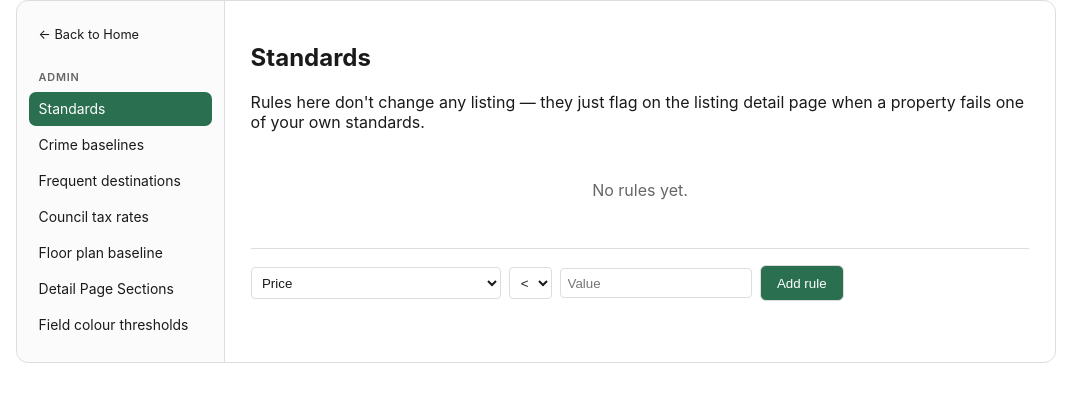
Test: AdminPage council tax rates › shows an empty state when there are no councils
The width and height of the screenshot is (1073, 409).
What coordinates should you click on to do the following:
click the button "Council tax rates"
I would click on:
 (120, 217)
Its box is [29,200,212,234].
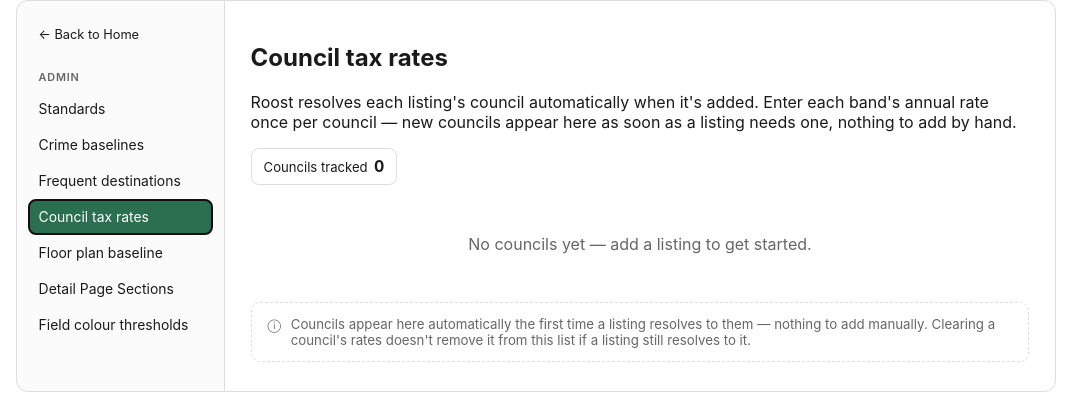
Expected: the text "No councils yet — add a listing to get started." is shown, [468,234,812,254]
